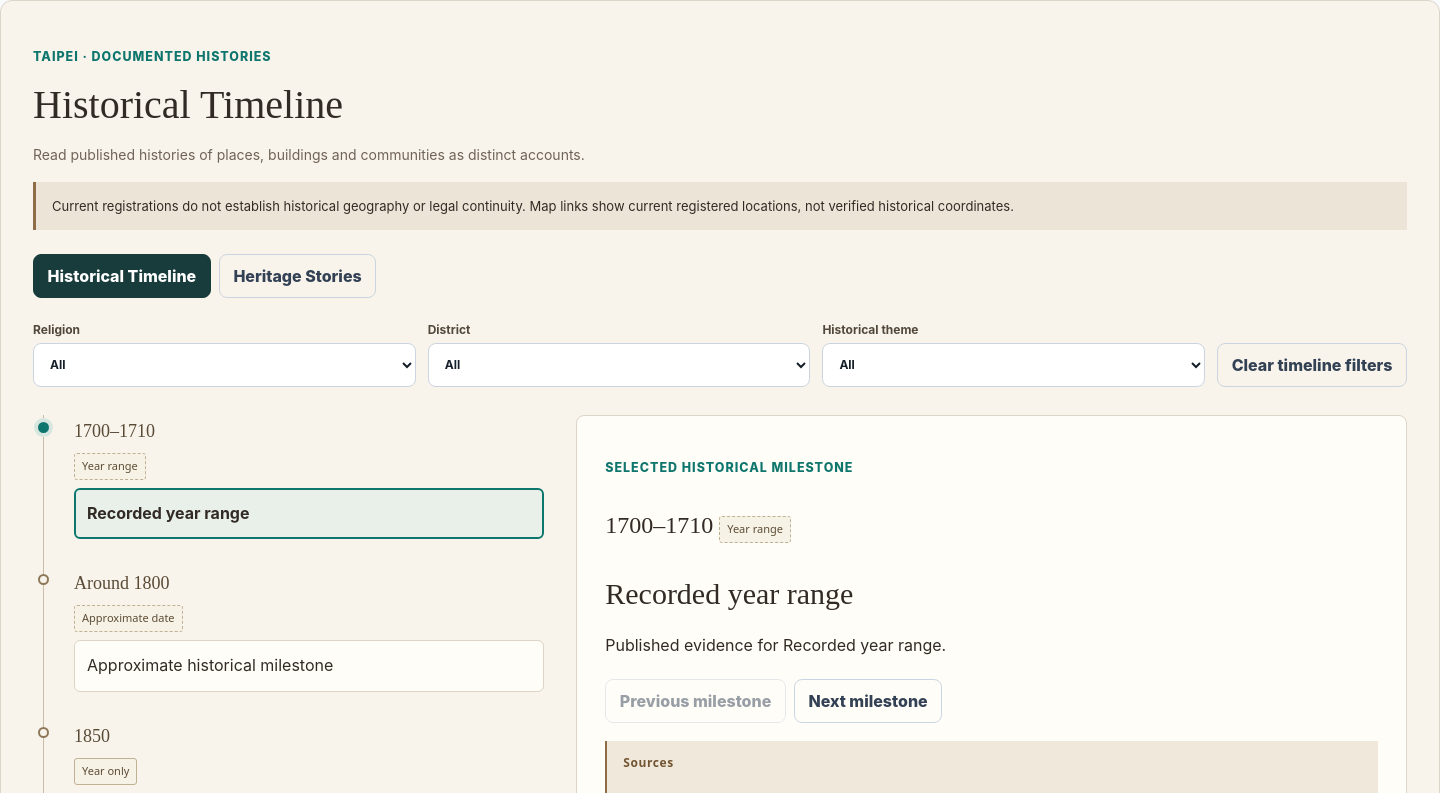
it: heritage timeline and stories › filters by religion, district and theme while retaining independently classified unmapped context
The image size is (1440, 793).
Select "Islam" in the dropdown labelled "Religion": (224, 365) [33, 343, 416, 387]
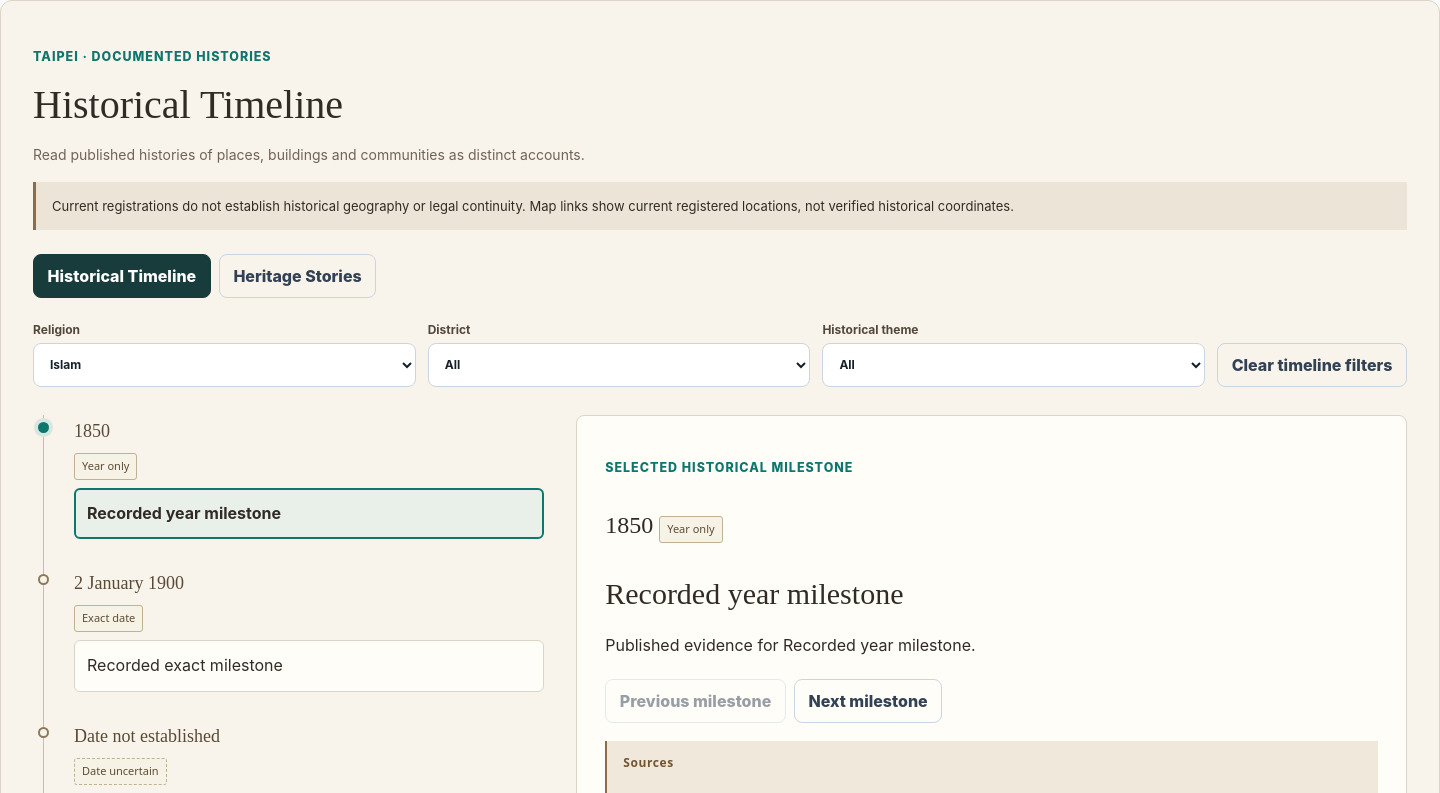
Select "中正區" in the dropdown labelled "District": (619, 365) [428, 343, 810, 387]
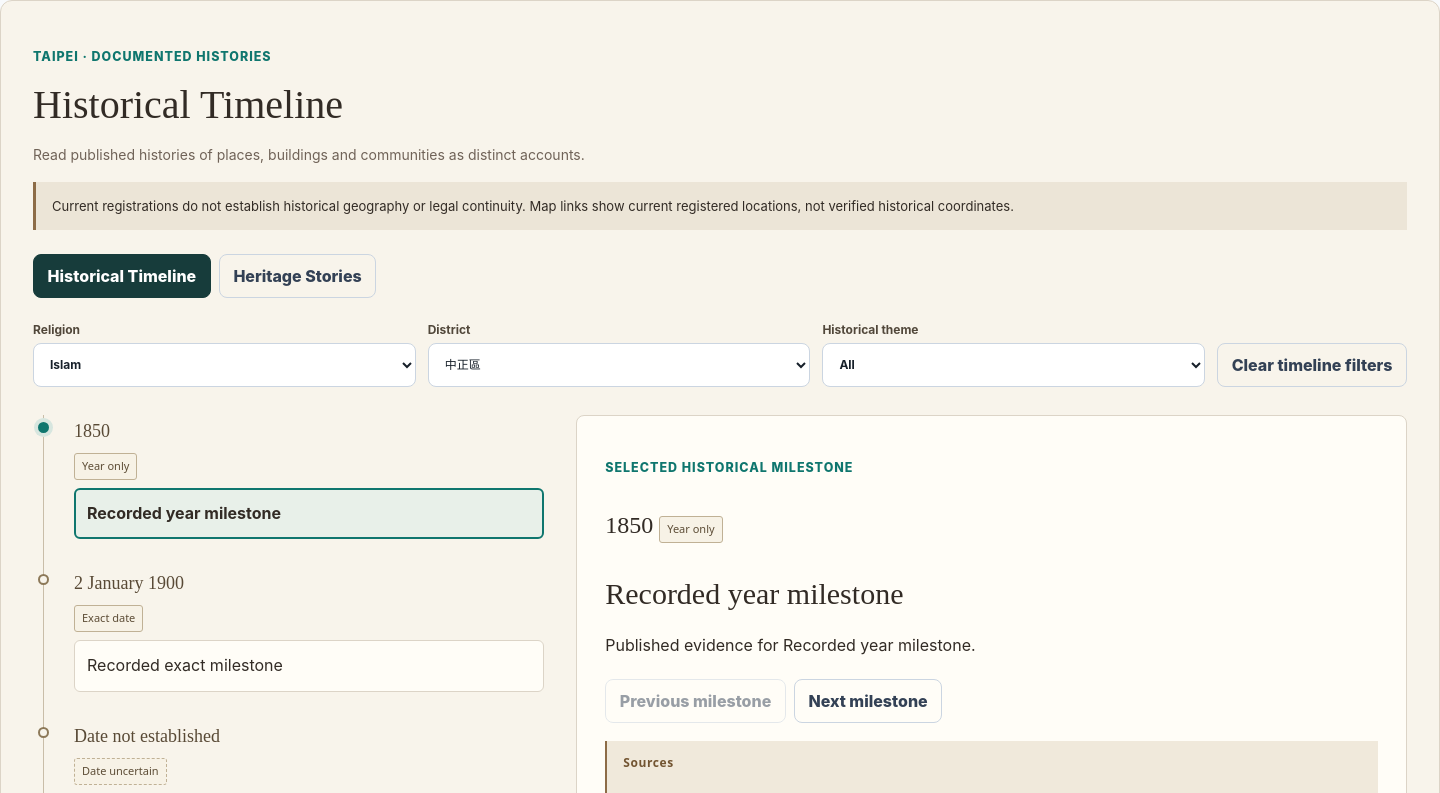
Expected: the button "Recorded year range" is not shown
Select "Foundation" in the dropdown labelled "Historical theme": (1014, 365) [822, 343, 1205, 387]
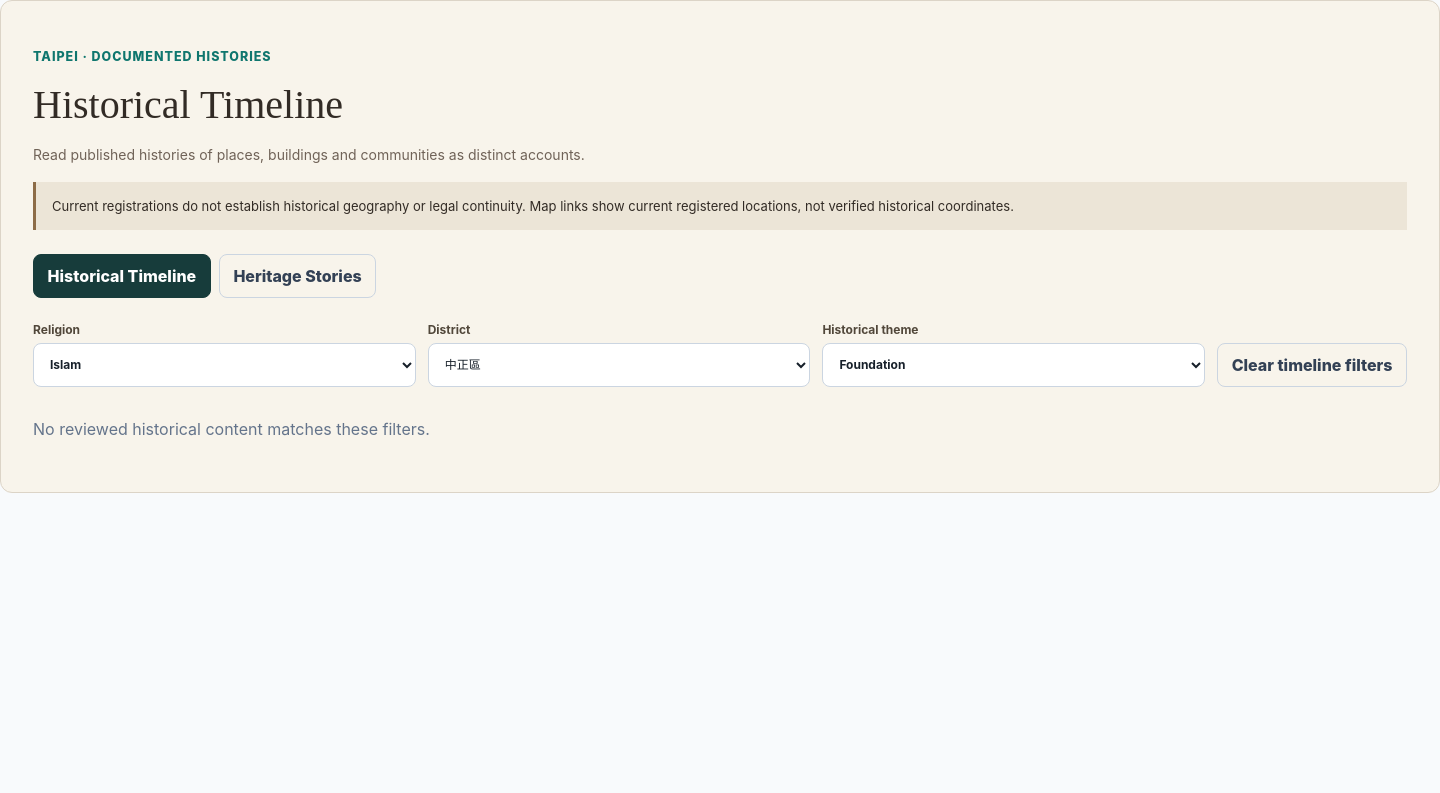
Expected: the text "No reviewed historical content matches these filters." is shown, [33, 419, 430, 439]
Click the button "Clear timeline filters": (1312, 365) [1217, 343, 1407, 387]
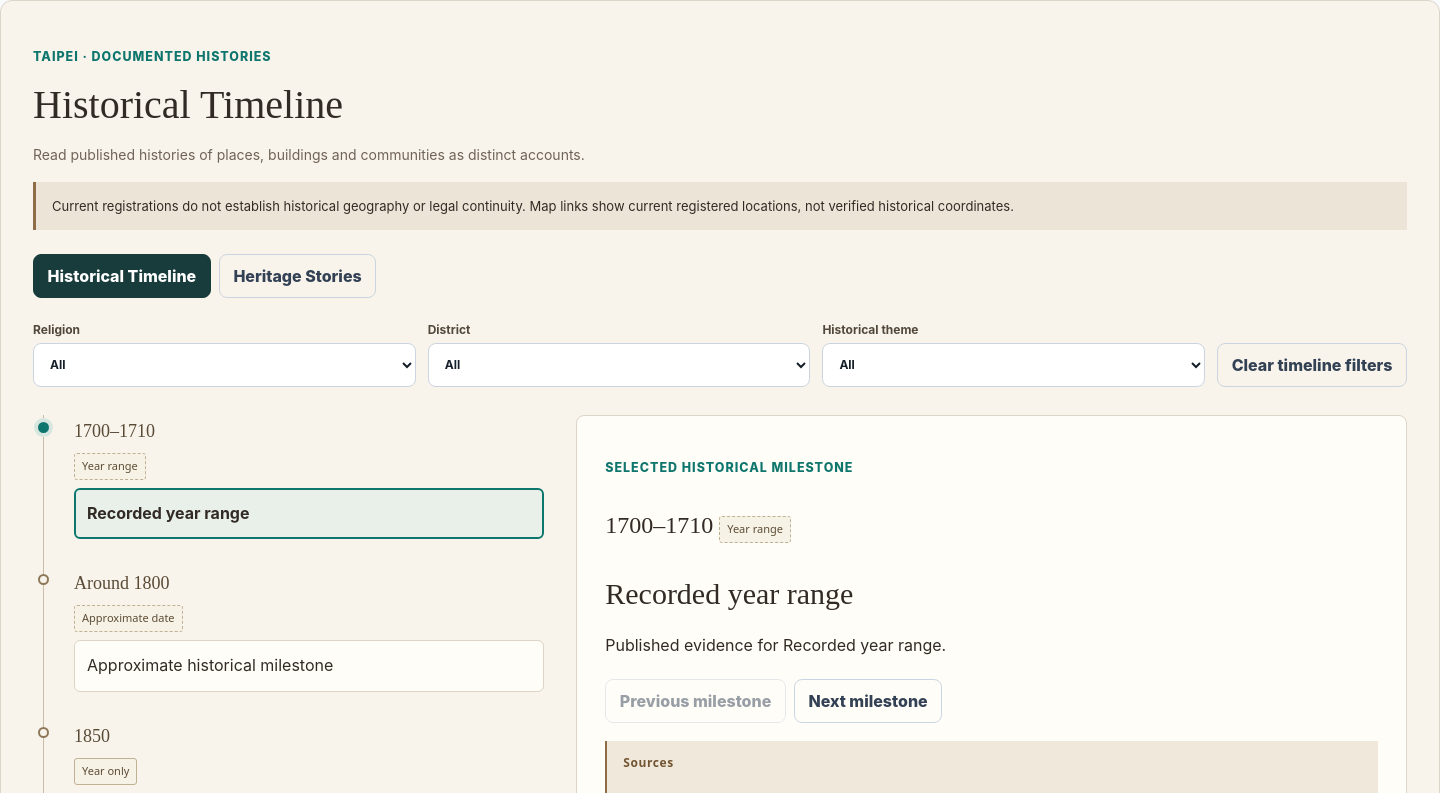
Expected: the button "Recorded year range" is shown, [74, 488, 544, 539]
